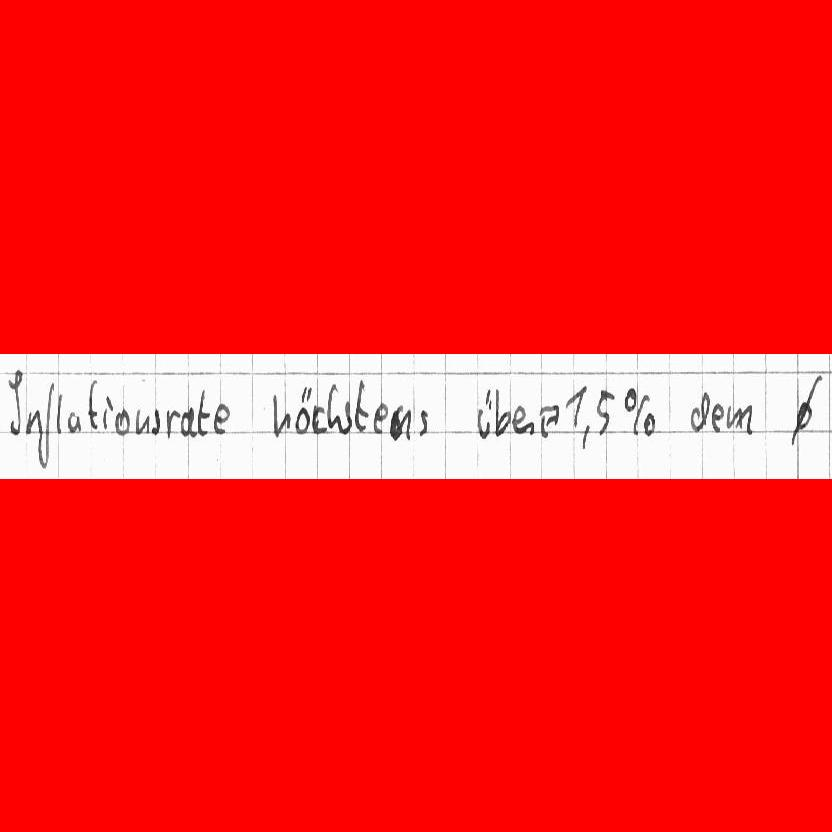Char: (790, 378, 824, 443), (622, 386, 660, 439), (34, 381, 53, 468), (327, 383, 347, 435), (595, 388, 615, 438), (272, 390, 293, 437), (6, 370, 21, 435), (493, 387, 512, 437), (563, 383, 585, 426), (727, 401, 753, 437), (351, 379, 368, 434), (26, 403, 46, 449), (690, 389, 710, 432), (390, 403, 411, 443), (296, 383, 312, 434), (86, 378, 100, 431), (537, 402, 558, 437), (478, 388, 493, 437), (197, 390, 210, 436), (212, 400, 229, 435), (515, 406, 533, 436), (134, 407, 151, 437), (51, 385, 61, 436), (114, 409, 131, 437), (372, 402, 387, 433), (415, 406, 429, 439), (64, 408, 81, 435), (182, 408, 196, 438), (103, 395, 114, 432), (166, 407, 179, 438), (312, 406, 325, 433), (711, 405, 724, 431), (343, 400, 352, 436), (151, 406, 160, 436), (581, 421, 589, 449)
